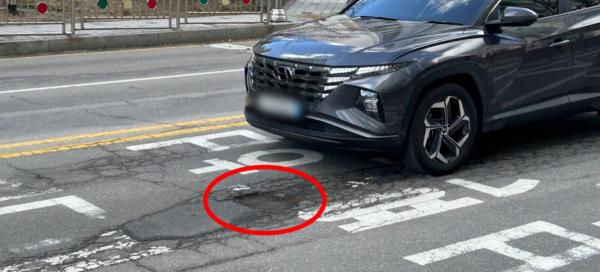pothole: (228, 184, 308, 219)
